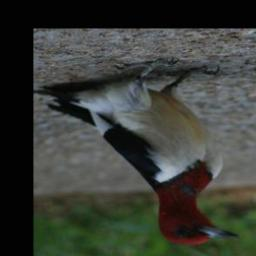Woodpecker: (33, 60, 245, 247)
